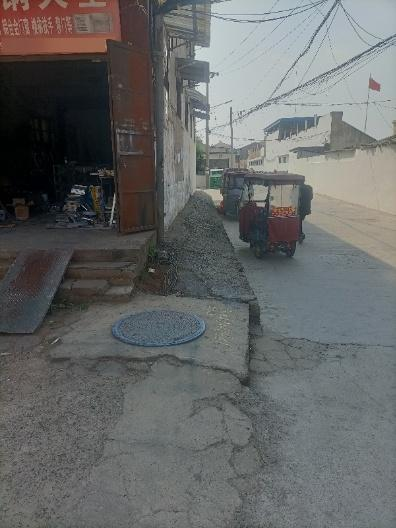wellcover: (103, 305, 211, 355)
